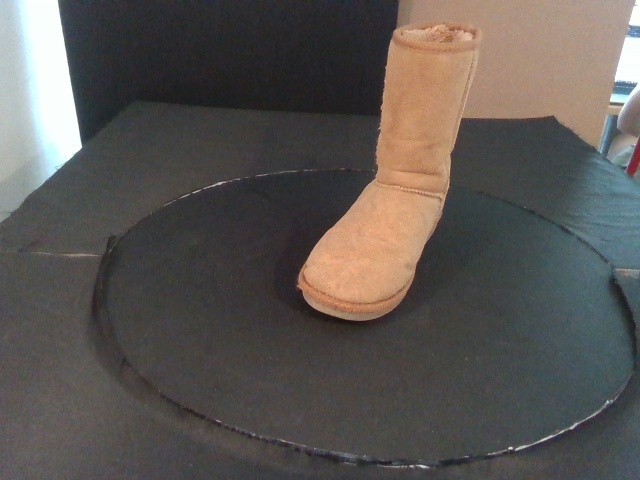shoe: (297, 21, 482, 323)
